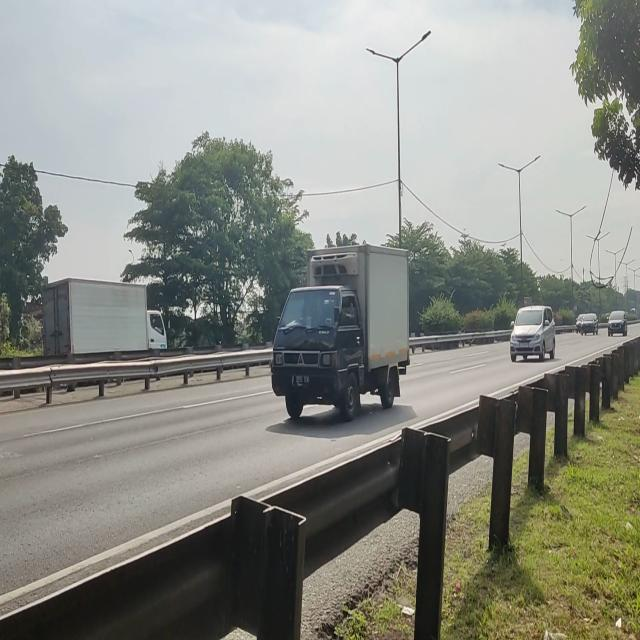Golongan I: (269, 241, 410, 418), (507, 300, 560, 368)
